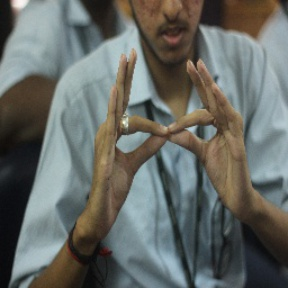B: (108, 101, 229, 174)
